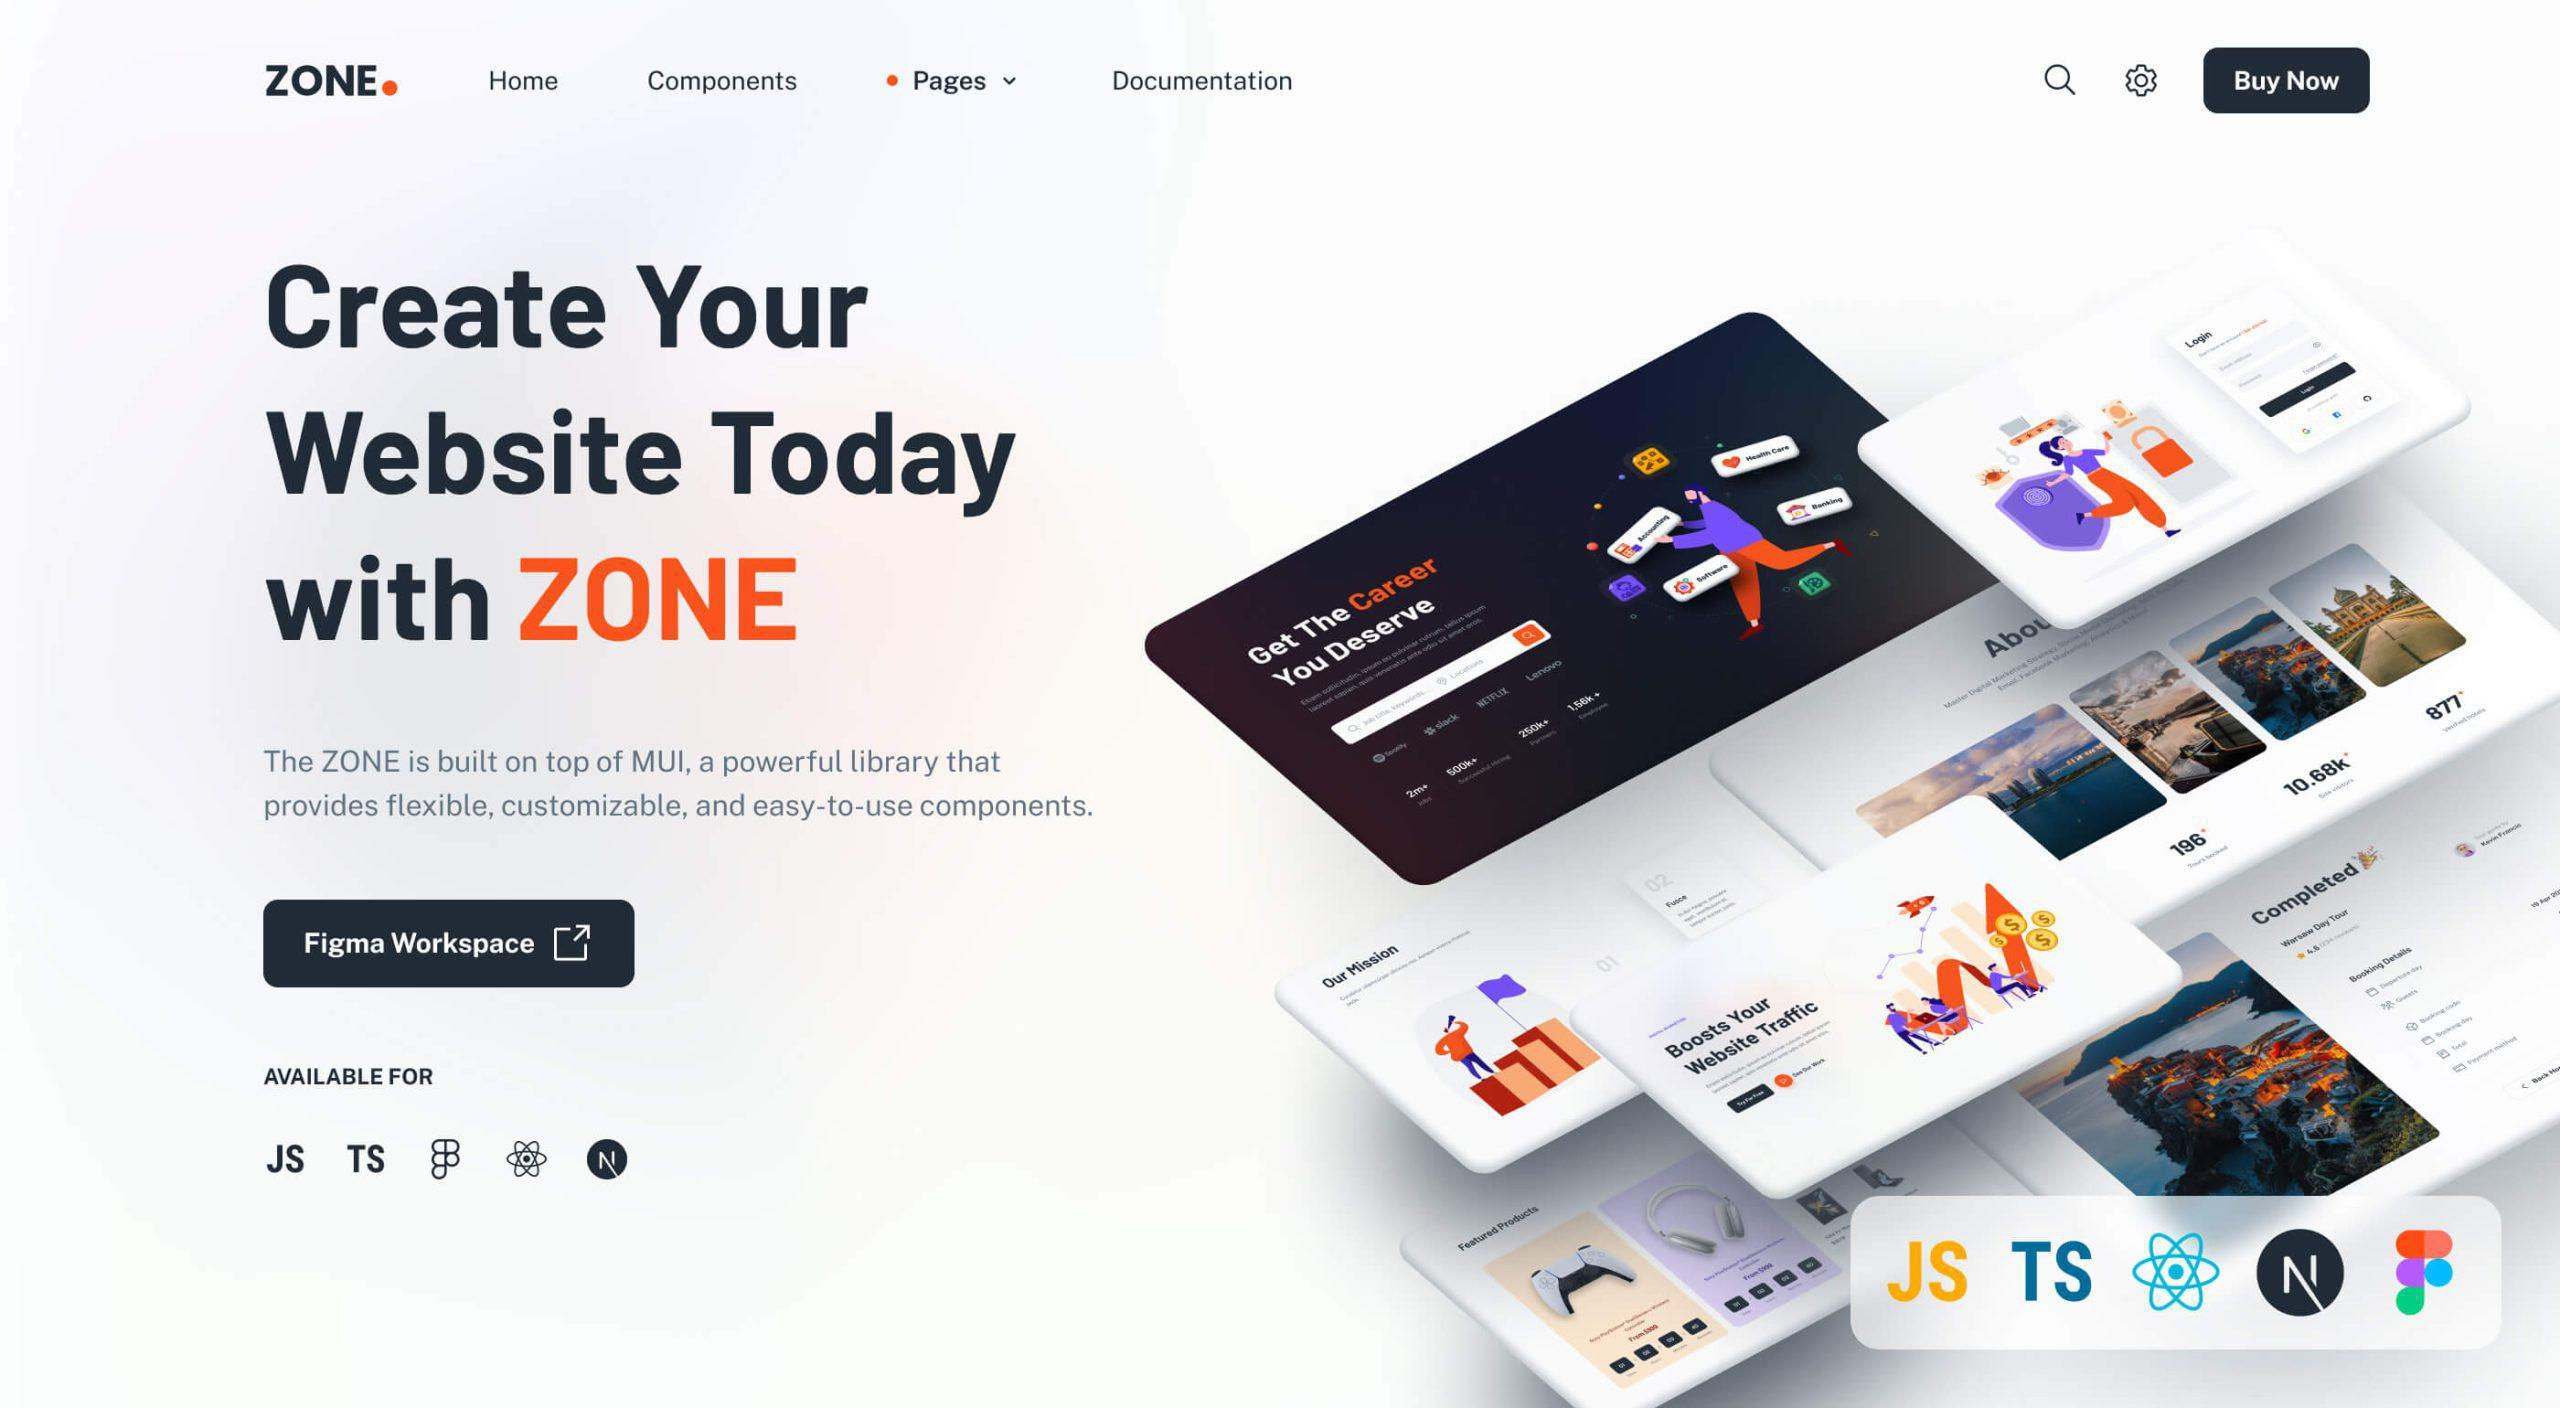button: (262, 903, 636, 985), (2205, 50, 2369, 114)
icon: (2121, 57, 2163, 109), (2038, 61, 2083, 108), (586, 1136, 629, 1183), (504, 1139, 551, 1181), (430, 1136, 465, 1181), (343, 1143, 388, 1176), (267, 1143, 303, 1177), (997, 69, 1021, 94)
label: (1108, 57, 1300, 106), (645, 61, 802, 104), (482, 61, 572, 101), (908, 64, 991, 102)
